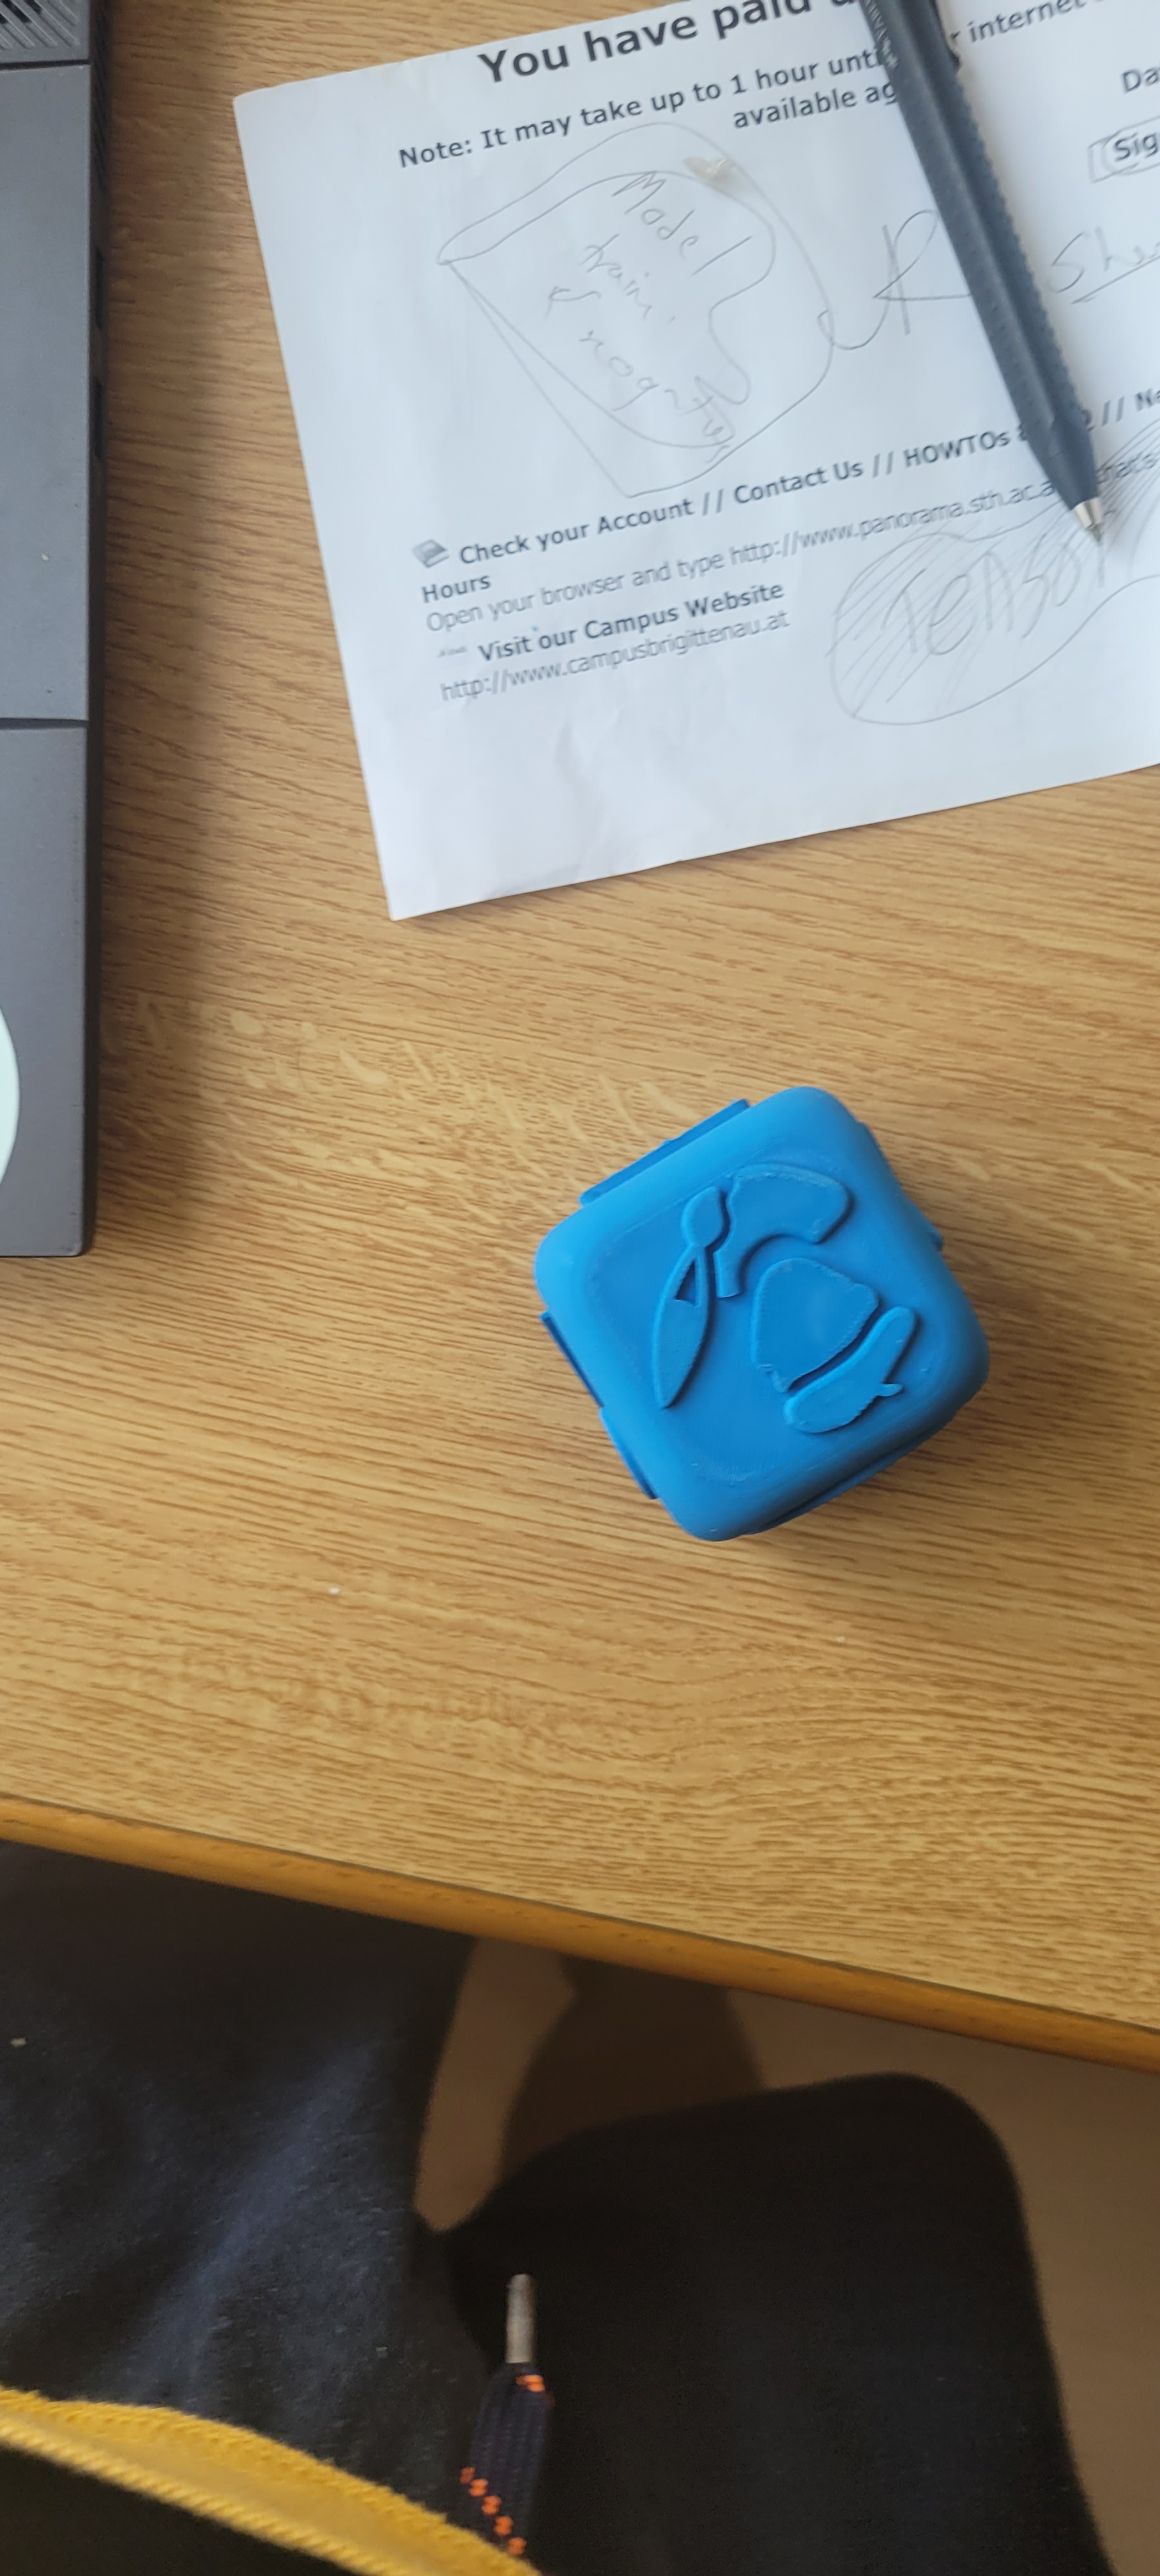Artist_Info: (565, 1135, 1056, 1536)
